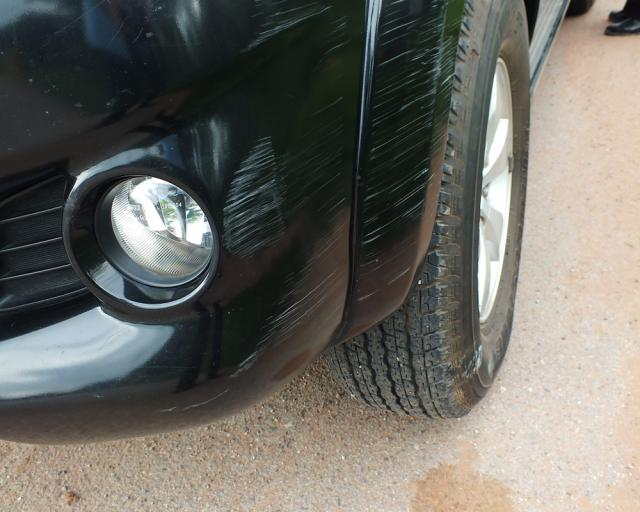scratch: (220, 0, 356, 382), (358, 0, 467, 297)
